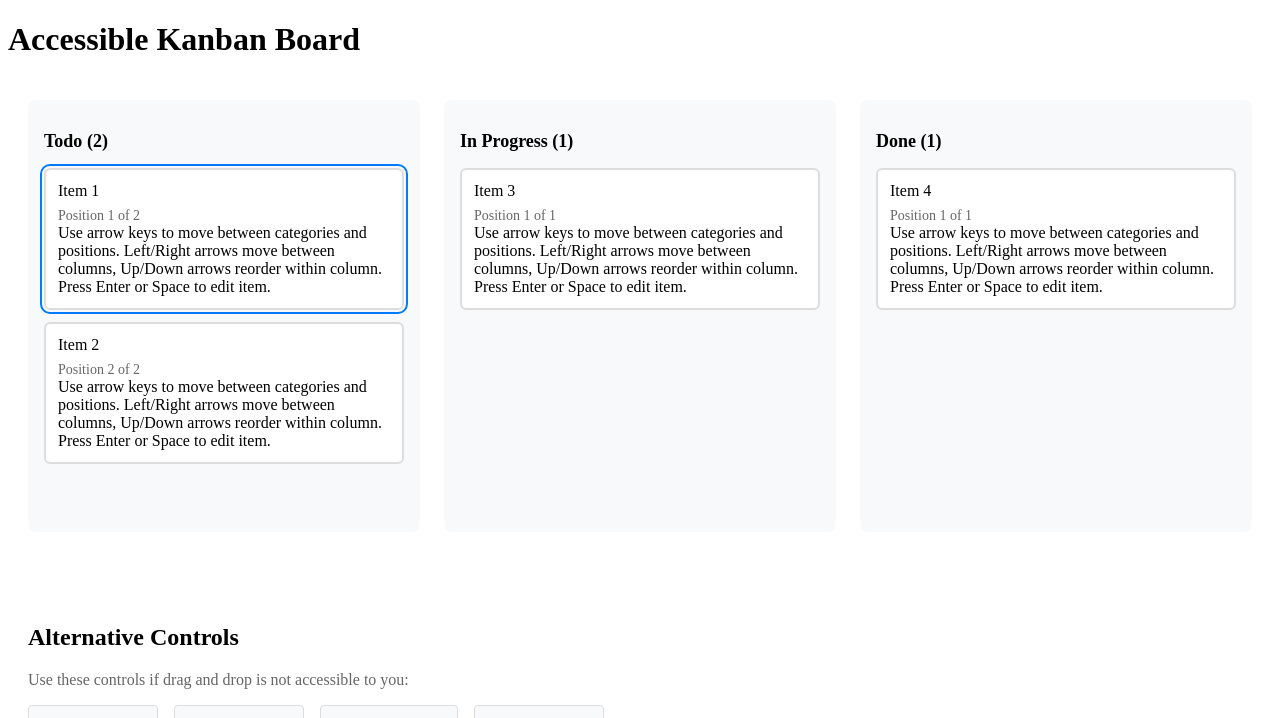
Test: UX Optimization Accessibility › should provide accessible drag and drop interface
# Test arrow key movement
Press Arrowright
(page scrolled)
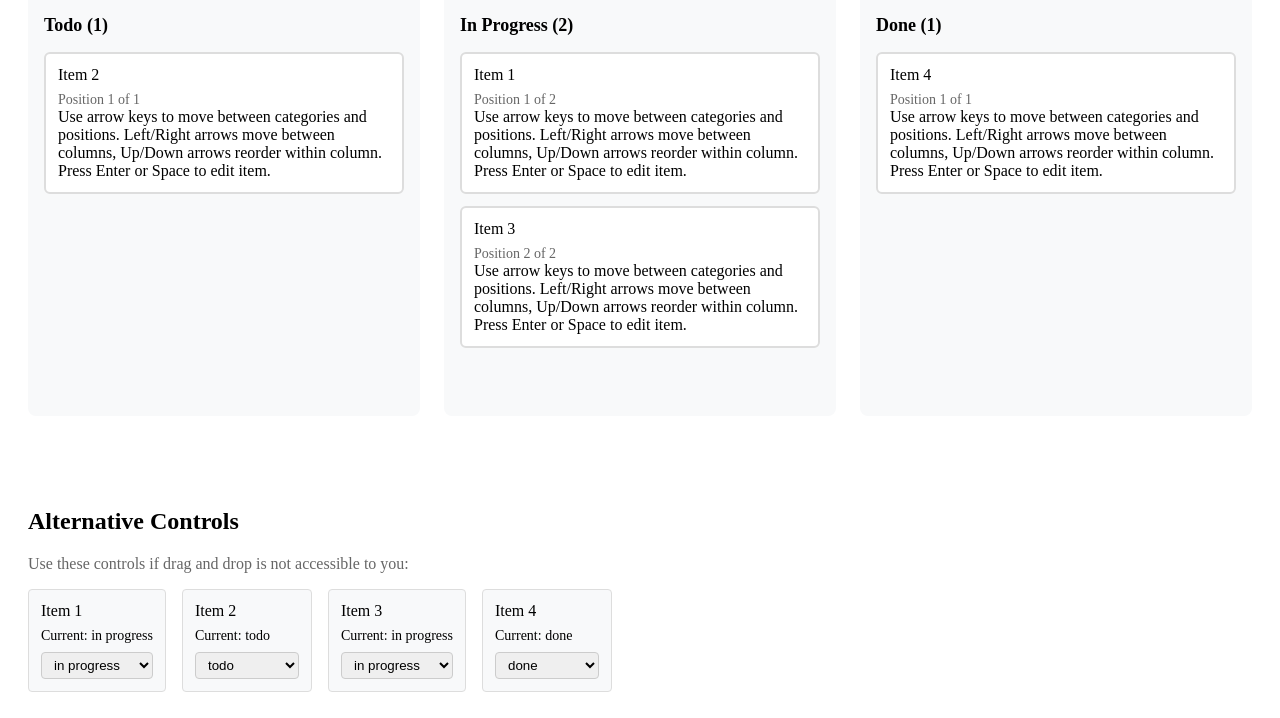
Now the heading "in progress (2)" is shown, box top-left (460, 15), bottom-right (573, 35)
# Test alternative controls
Select "done" in the dropdown named "move item 2" at point(247, 665), box top-left (195, 652), bottom-right (299, 679)
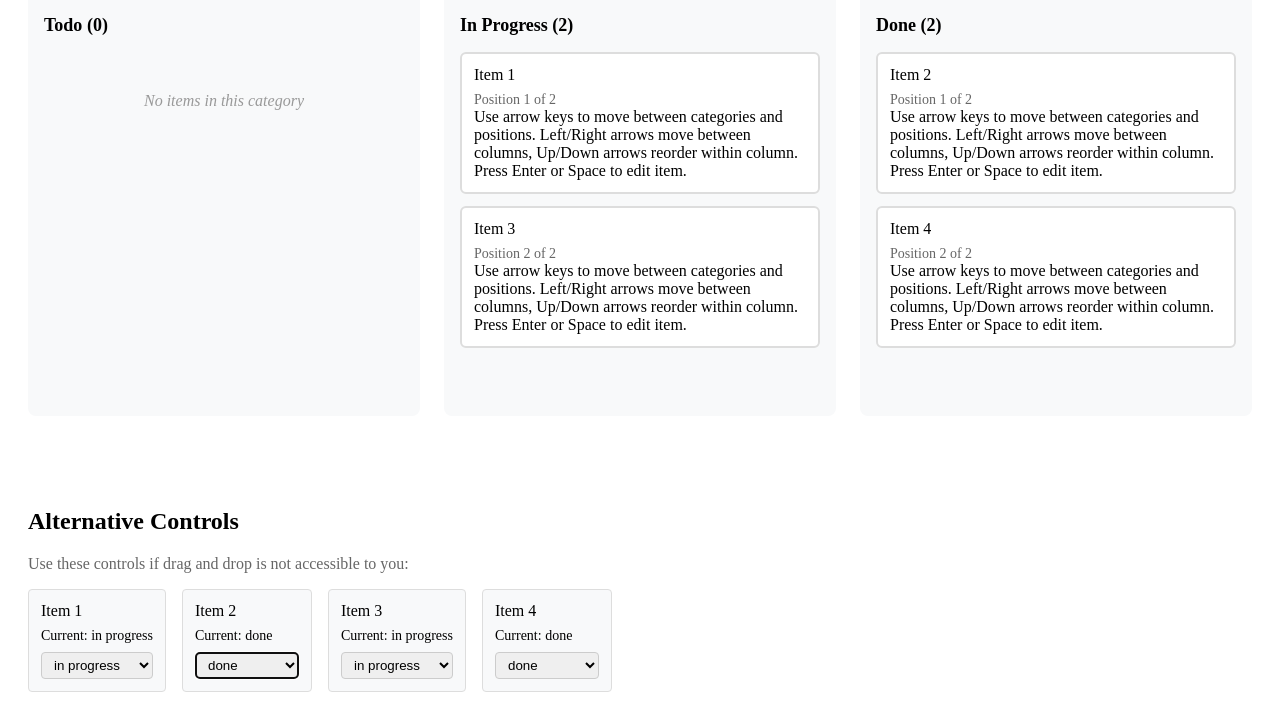
Now the heading "done (2)" is shown, box top-left (876, 15), bottom-right (942, 35)
